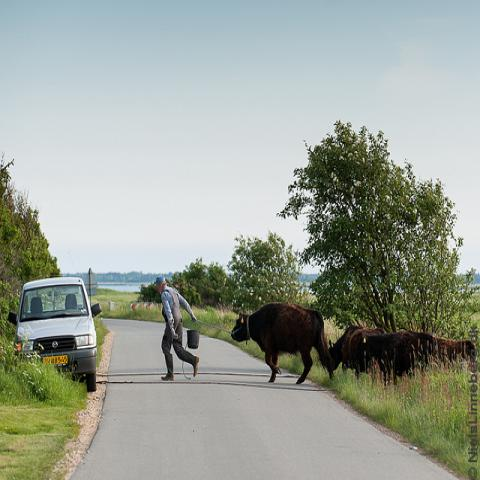car: (13, 276, 99, 394)
